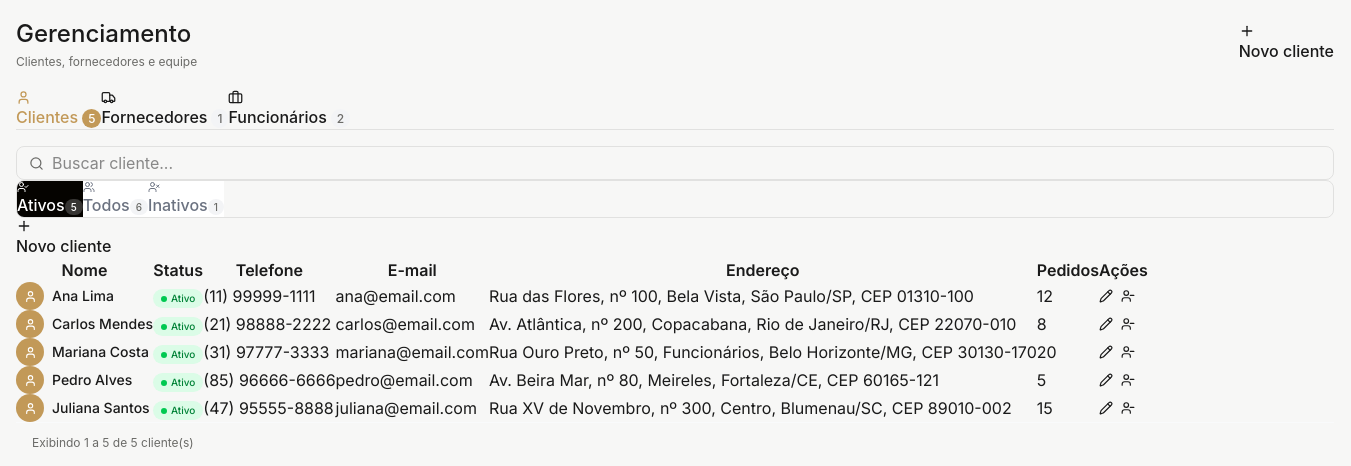
Test: People: caracterizacao de filtros e permissoes › identifica o dono e impede suas acoes de edicao e exclusao
Expected: the heading "Gerenciamento" is shown, [16,16,197,52]
Expected: the text "Ana Lima" is shown, [52,286,114,306]
Click the button "Funcionários2". click: (289, 110)
box: [228,90,350,129]
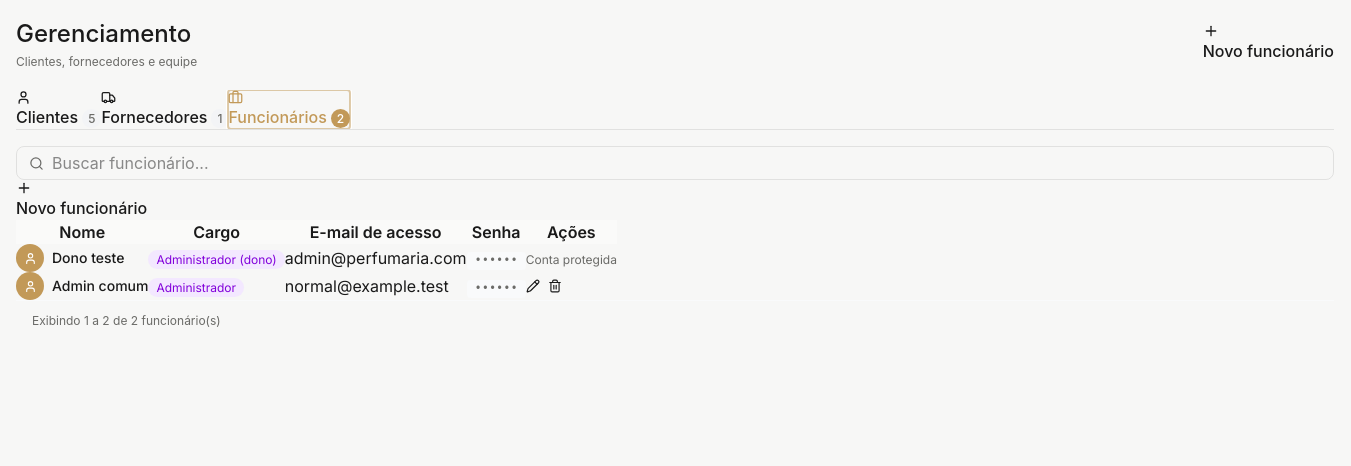
Now the text "Administrador (dono)" is shown, box [148,250,285,269]
Now the text "Conta protegida" is shown, box [526,252,617,267]
Now the button named "Excluir" is shown, box [548,279,562,293]
